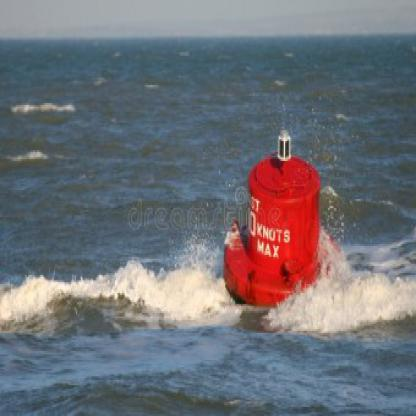buoy: (216, 114, 342, 322)
